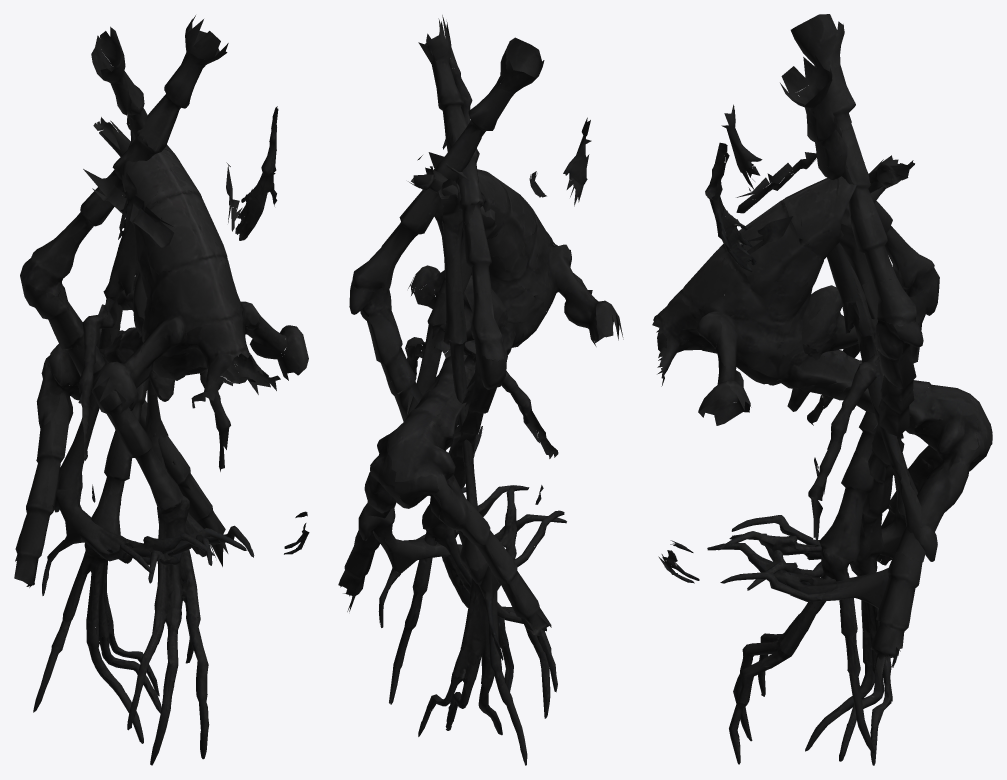
The model's file is ElTrepador_AI.fbx.
3 views of the same model, side by side, from view 1: azimuth 30°, elevation 25°; view 2: azimuth 150°, elevation 25°; view 3: azimuth 270°, elevation 25° (orthographic). The views are drawn at different scales.
Parts seen in each view (by area): view 1: Torso1, Arm2, Arm1, Leg1, Leg2, Head1; view 2: Torso1, Arm1, Arm2, Leg1, Leg2, Head1; view 3: Torso1, Arm1, Arm2, Leg2, Head1, Leg1.
Part boxes in pixels (left/top/right/bottom): Torso1: left=14, top=137, right=309, bottom=587; Arm2: left=20, top=15, right=278, bottom=765; Arm1: left=33, top=26, right=161, bottom=743; Leg1: left=42, top=117, right=246, bottom=595; Leg2: left=83, top=116, right=254, bottom=583; Head1: left=78, top=272, right=230, bottom=502; Torso1: left=338, top=163, right=623, bottom=635; Arm1: left=349, top=37, right=591, bottom=765; Arm2: left=389, top=15, right=557, bottom=718; Leg1: left=417, top=152, right=564, bottom=660; Leg2: left=358, top=166, right=566, bottom=627; Head1: left=405, top=275, right=558, bottom=504; Torso1: left=652, top=162, right=992, bottom=685; Arm1: left=721, top=14, right=923, bottom=765; Arm2: left=705, top=55, right=939, bottom=764; Leg2: left=707, top=152, right=937, bottom=667; Head1: left=771, top=285, right=879, bottom=542; Leg1: left=718, top=155, right=917, bottom=590.
Bounding box in the file's own units: 188 × 598 × 254.
1 material, 1 textured.
